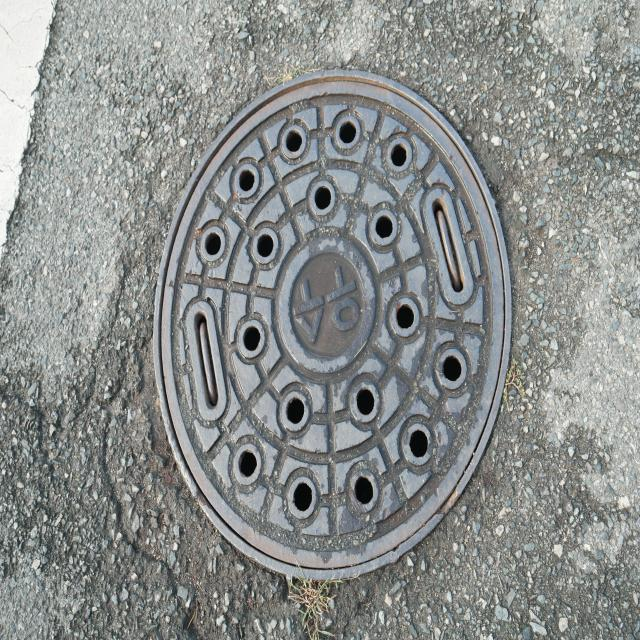manhole: (155, 71, 510, 579)
